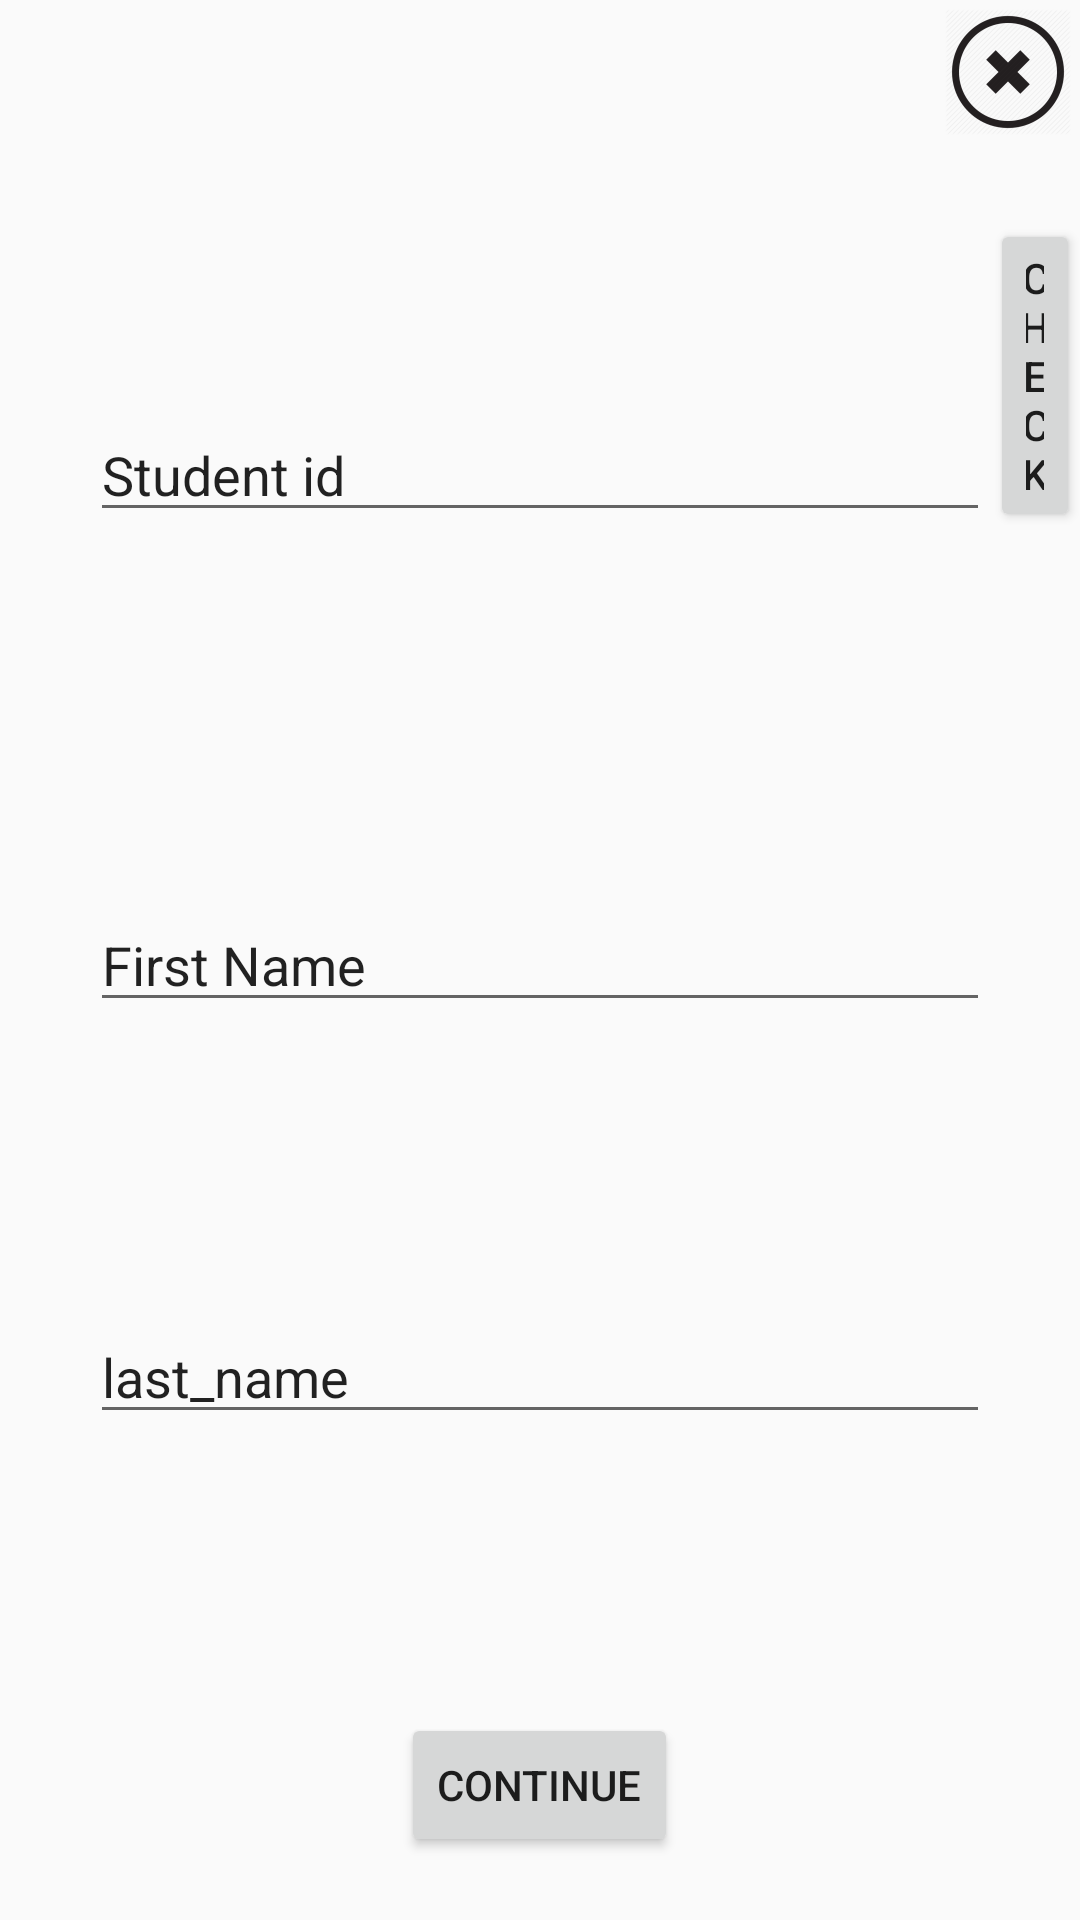

Screen size 1080x1920. Icon name, then its box in pixels as (x1, y1, x2, y2):
cancel: (952, 16, 1064, 128)
